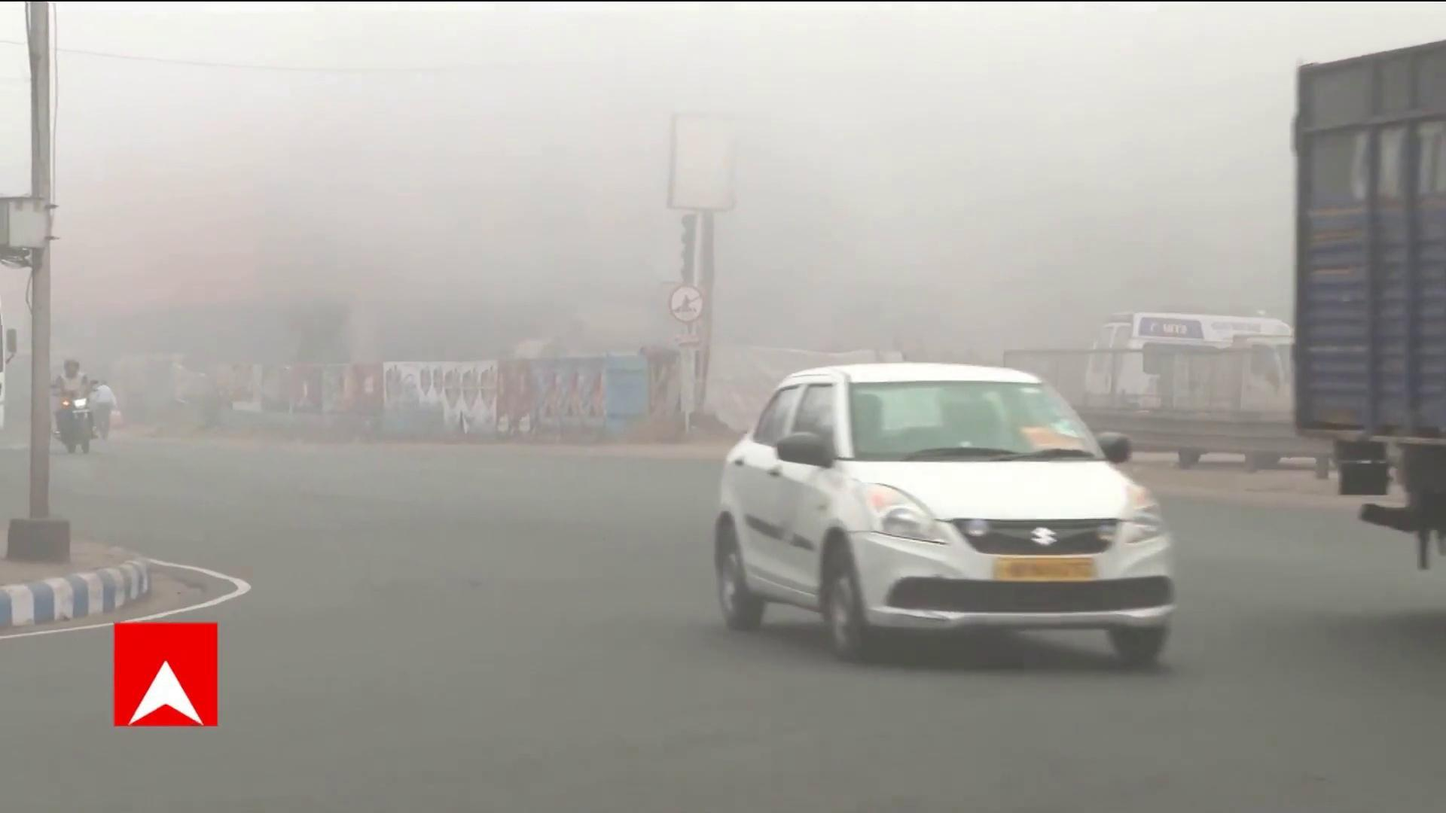Bike: (53, 350, 103, 463)
Car: (713, 358, 1181, 664)
